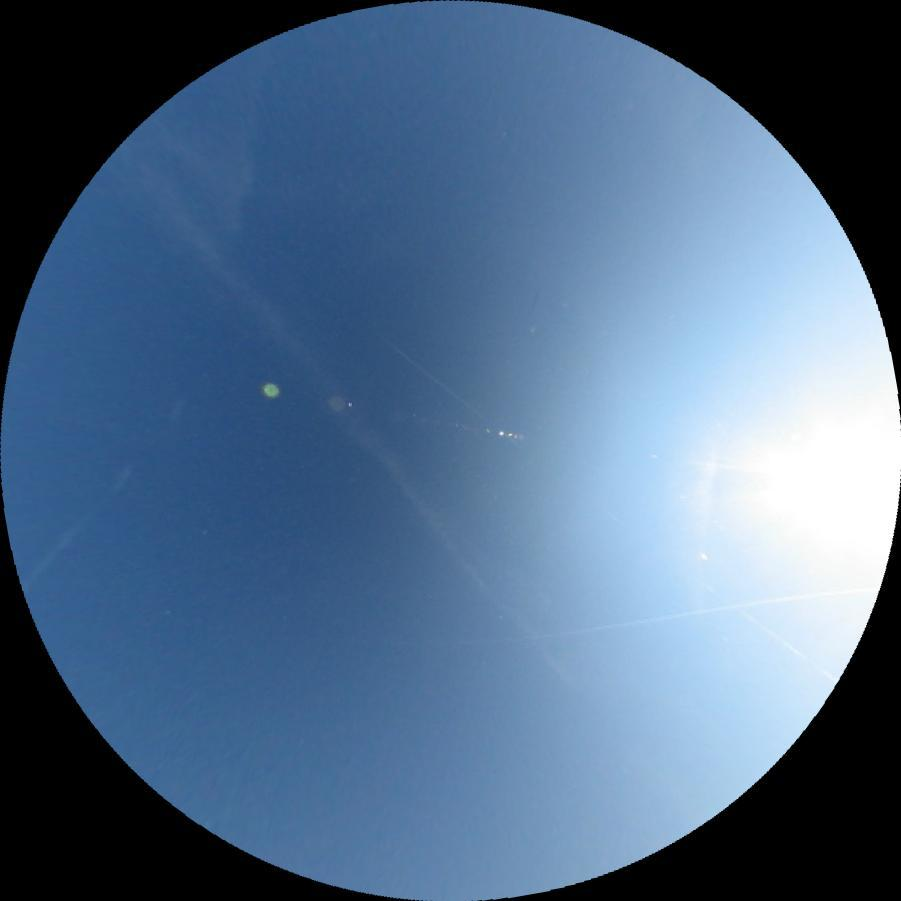contrail veryold: (92, 126, 579, 705)
contrail young: (482, 419, 840, 686), (467, 584, 879, 650)
sun: (751, 390, 901, 589)
